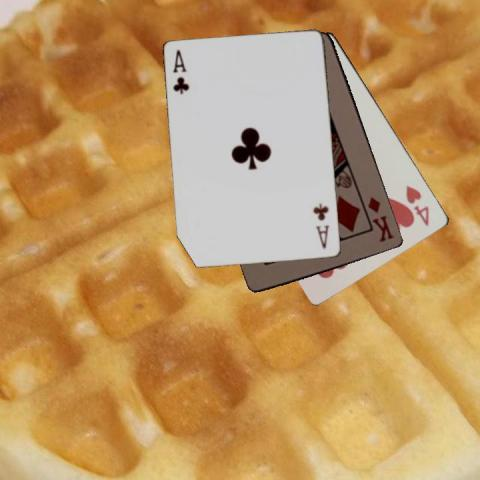4h: (404, 182, 432, 227)
Ac: (170, 47, 191, 96), (312, 200, 332, 250)
Kd: (365, 194, 396, 244)
